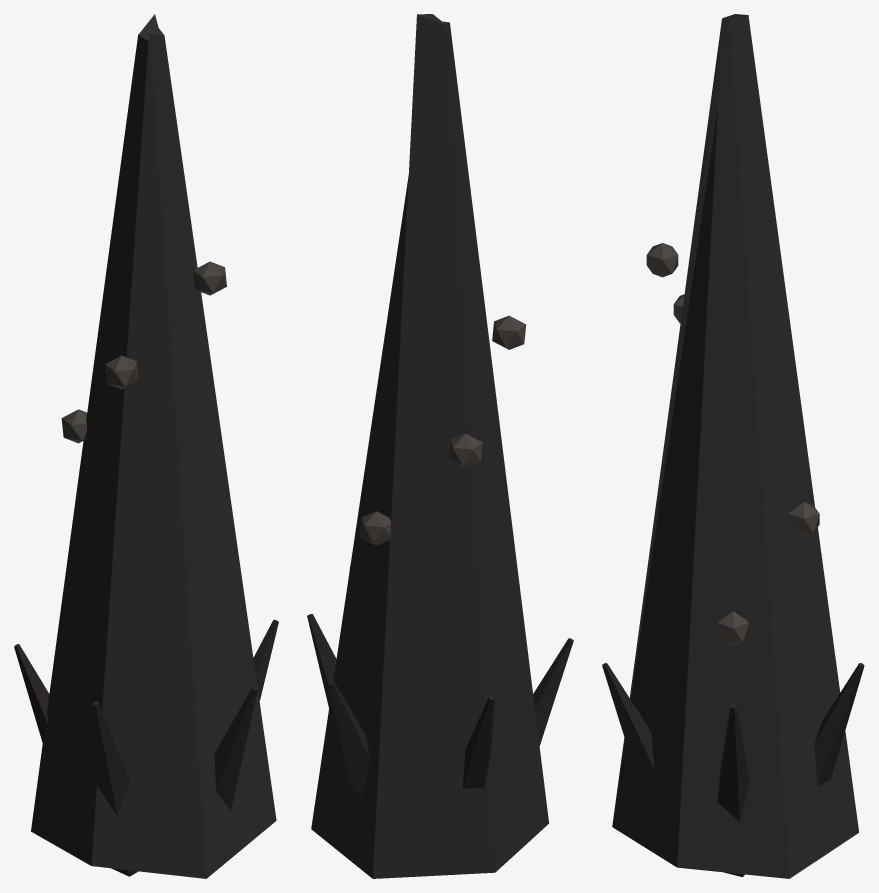
Rendered from TarSpire.fbx.
3 renders of one model, left to right at view 1: azimuth 30°, elevation 25°; view 2: azimuth 150°, elevation 25°; view 3: azimuth 270°, elevation 25°, orthographic.
Parts seen in each view (by area): view 1: TarSpire; view 2: TarSpire; view 3: TarSpire.
Boxes of the visible parts, x1=… form: TarSpire: x1=14, y1=14, x2=278, y2=878; TarSpire: x1=307, y1=14, x2=573, y2=878; TarSpire: x1=602, y1=14, x2=864, y2=878.
Bounding box in the file's own units: 4 × 14 × 4.
